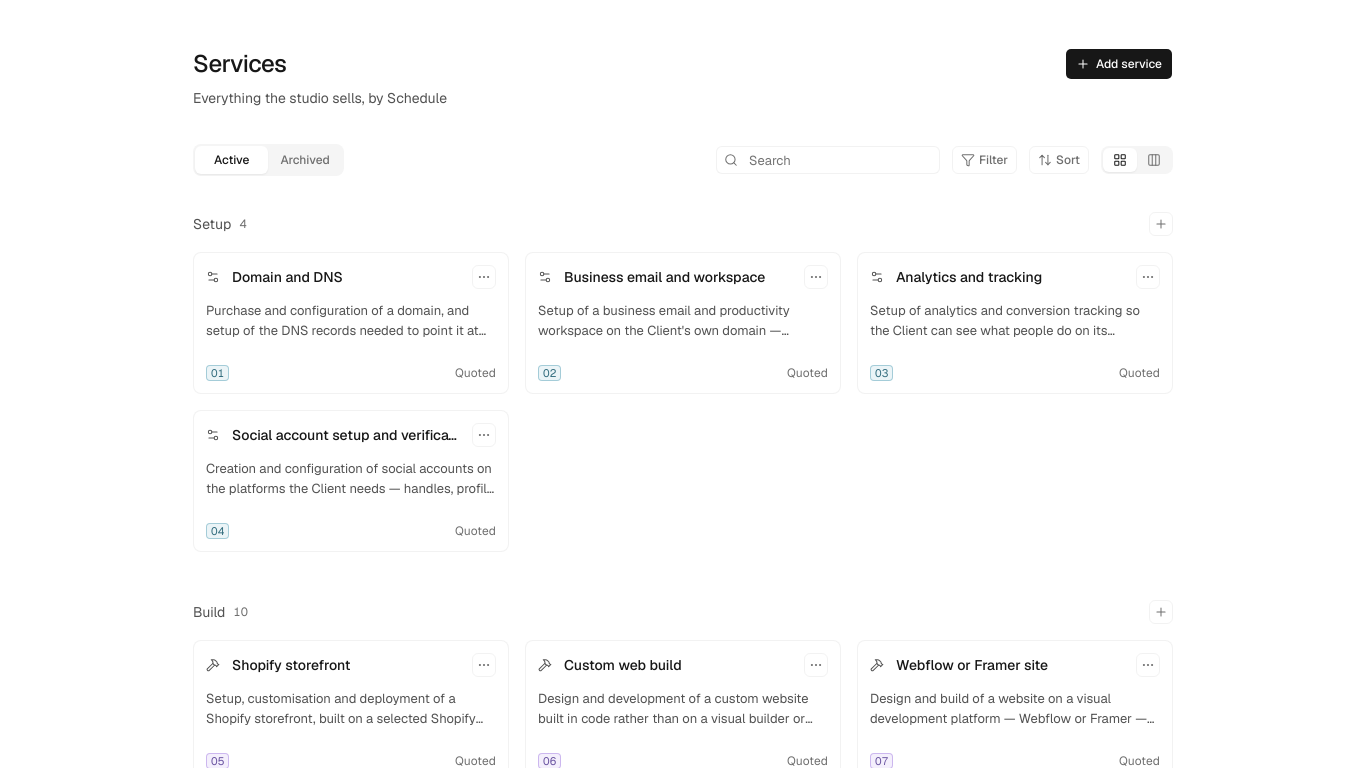
ServiceCatalogue › shows each choice by its label, not its stored value
This screenshot has width=1366, height=768.
Click the button "Add service" at {"x": 1119, "y": 64}, box [1065,48,1173,80]
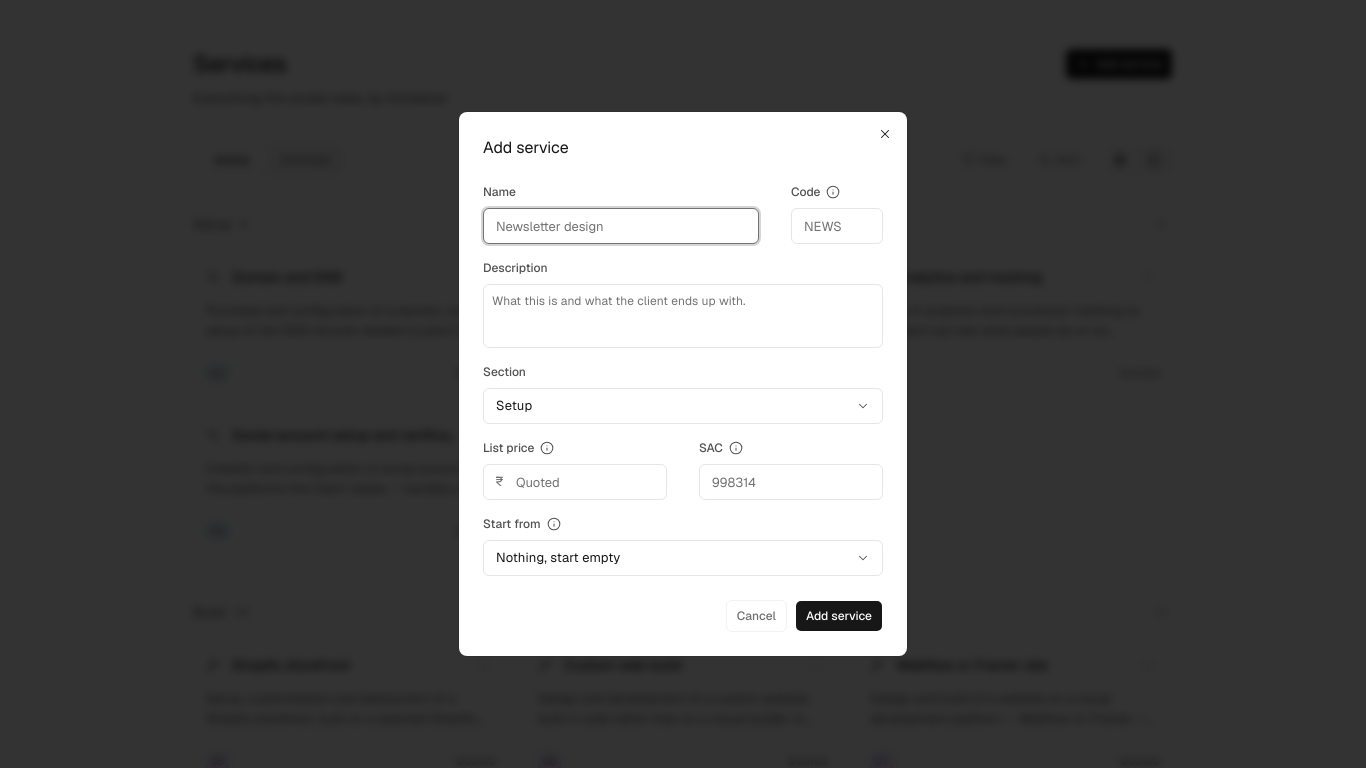
Now the dropdown named "Start from" shows "Nothing, start empty", box [483,540,883,576]
